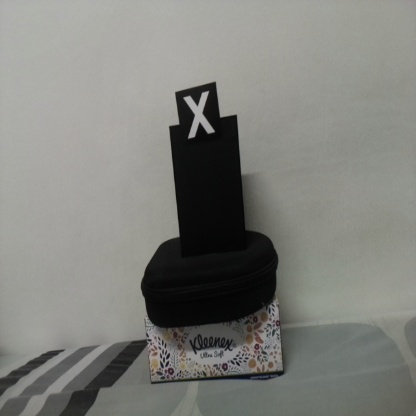id_13: (175, 91, 221, 147)
